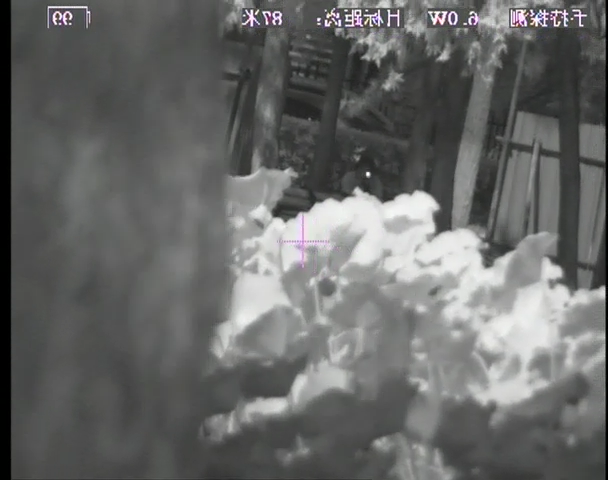my: (364, 169, 372, 179)
